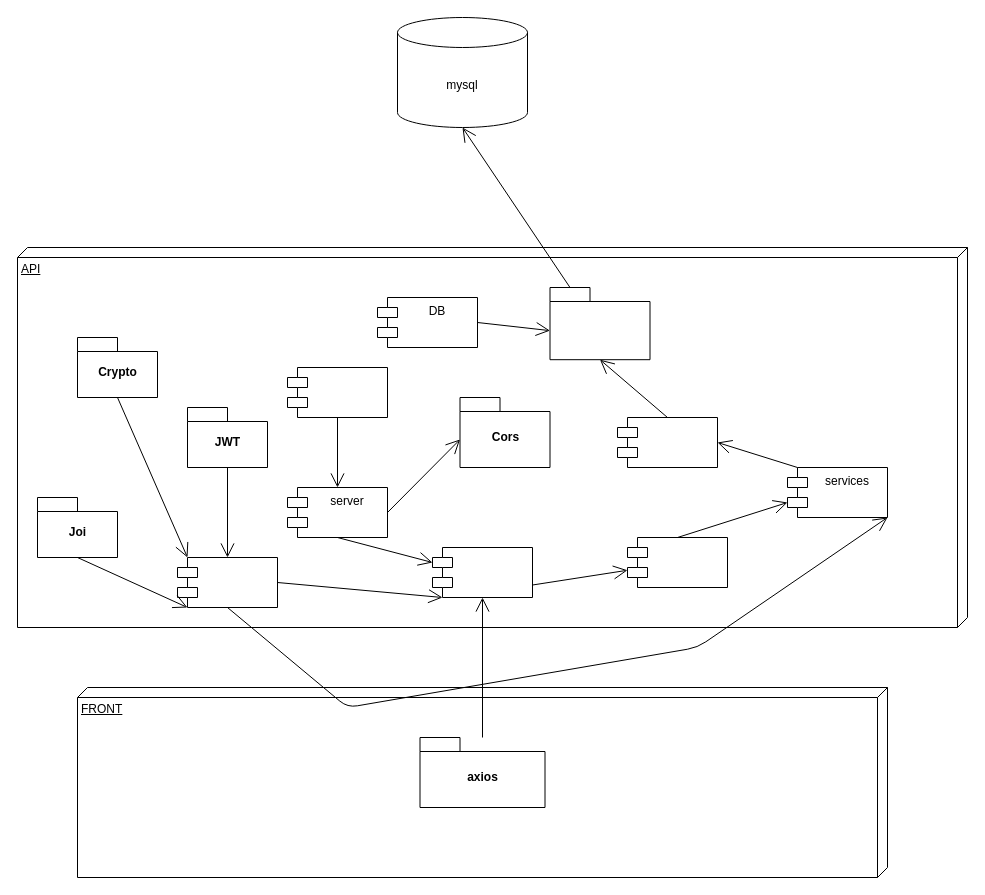
Some shapes in this 985 by 895 pixel diagram are drawn without their labels. Here are the shapes that lost their labels. From the top down, the centre of each, then its label:
the point at 599,323: sequelize
the point at 337,392: index.js
the point at 667,442: models
the point at 227,582: Utils
the point at 482,572: routes
the point at 677,562: controllers
